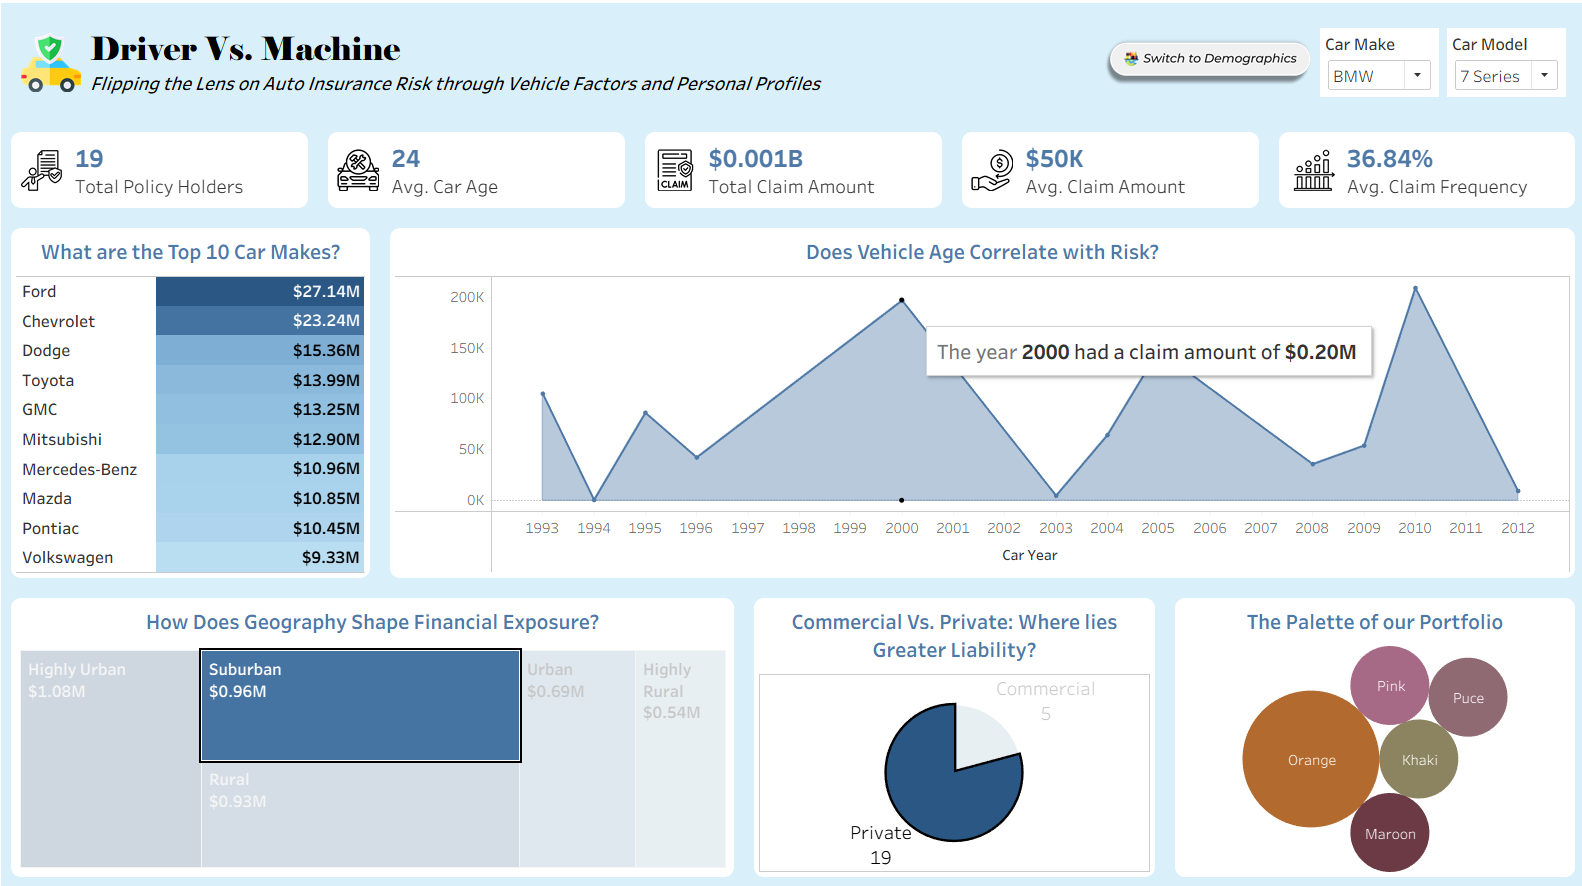

The page's visual inventory and layout, read from the dashboard file:
{"tool":"tableau","page":{"name":"Asset Risk and Environmental Factors","canvas":[1600,900],"ordinal":0},"visuals":[{"type":"image","param":"Image/car-insurance.png","box":[23,23,70,89]},{"type":"text","box":[93,23,1014,89]},{"type":"dashboard-object","box":[1107,23,216,89]},{"type":"filter","title":"Does Vehicle Age Correlate with Risk?","param":"[federated.04hyo650r2rqqj174ztx61yg1vz3].[none:car_make:nk]","box":[1323,23,127,89]},{"type":"filter","title":"Does Vehicle Age Correlate with Risk?","param":"[federated.04hyo650r2rqqj174ztx61yg1vz3].[none:car_model:nk]","box":[1450,23,127,89]},{"type":"image","param":"Image/policyholders.png","box":[23,142,50,66]},{"type":"worksheet","title":"Total policy holders","mark":"Automatic","box":[73,142,237,66]},{"type":"image","param":"Image/car age.png","box":[340,142,50,66]},{"type":"worksheet","title":"Avg. Car Age","mark":"Automatic","box":[390,142,237,66]},{"type":"image","param":"Image/IMG-20260520-WA0026.jpg","box":[657,142,50,66]},{"type":"worksheet","title":"Total Claims Amount","mark":"Automatic","box":[707,142,237,66]},{"type":"image","param":"Image/refund.png","box":[974,142,50,66]},{"type":"worksheet","title":"Average Claims Amount","mark":"Automatic","box":[1024,142,237,66]},{"type":"image","param":"Image/IMG-20260520-WA0030.jpg","box":[1296,142,50,66]},{"type":"worksheet","title":"Average Claims Frequency","mark":"Automatic","box":[1346,142,226,66]},{"type":"worksheet","title":"What are the Top 10 Car Makes?","mark":"Square","rows":["car_make"],"box":[8,223,379,370]},{"type":"worksheet","title":"Does Vehicle Age Correlate with Risk?","mark":"Area","rows":["claim_amt","claim_amt"],"cols":["car_year"],"box":[387,223,1205,370]},{"type":"worksheet","title":"How Does Geography Shape Financial Exposure?","mark":"Automatic","box":[8,593,743,299]},{"type":"worksheet","title":"Commercial Vs. Private: Where lies Greater Liability?","mark":"Automatic","cols":["Calculation_1066260373028880","Calculation_1066260373041170"],"box":[751,593,421,299]},{"type":"worksheet","title":"The Palette of our Portfolio","mark":"Circle","box":[1172,593,420,299]}]}

Visuals, with their boxes in screenshot pixels (x1, y1, x2, y2), scaled from the page's 1600x900 canvas onto the 1582x886 screenshot:
image: <bbox>23, 23, 92, 110</bbox>
text: <bbox>92, 23, 1095, 110</bbox>
dashboard-object: <bbox>1095, 23, 1308, 110</bbox>
"Does Vehicle Age Correlate with Risk?" filter: <bbox>1308, 23, 1434, 110</bbox>
"Does Vehicle Age Correlate with Risk?" filter: <bbox>1434, 23, 1559, 110</bbox>
image: <bbox>23, 140, 72, 205</bbox>
"Total policy holders" worksheet: <bbox>72, 140, 307, 205</bbox>
image: <bbox>336, 140, 386, 205</bbox>
"Avg. Car Age" worksheet: <bbox>386, 140, 620, 205</bbox>
image: <bbox>650, 140, 699, 205</bbox>
"Total Claims Amount" worksheet: <bbox>699, 140, 933, 205</bbox>
image: <bbox>963, 140, 1012, 205</bbox>
"Average Claims Amount" worksheet: <bbox>1012, 140, 1247, 205</bbox>
image: <bbox>1281, 140, 1331, 205</bbox>
"Average Claims Frequency" worksheet: <bbox>1331, 140, 1554, 205</bbox>
"What are the Top 10 Car Makes?" worksheet (Square marks): <bbox>8, 220, 383, 584</bbox>
"Does Vehicle Age Correlate with Risk?" worksheet (Area marks): <bbox>383, 220, 1574, 584</bbox>
"How Does Geography Shape Financial Exposure?" worksheet: <bbox>8, 584, 743, 878</bbox>
"Commercial Vs. Private: Where lies Greater Liability?" worksheet: <bbox>743, 584, 1159, 878</bbox>
"The Palette of our Portfolio" worksheet (Circle marks): <bbox>1159, 584, 1574, 878</bbox>
